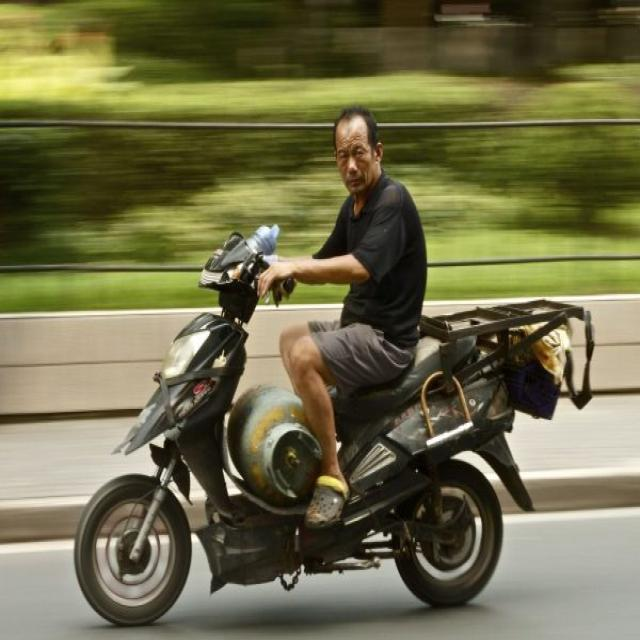no_helmet: (322, 96, 389, 205)
